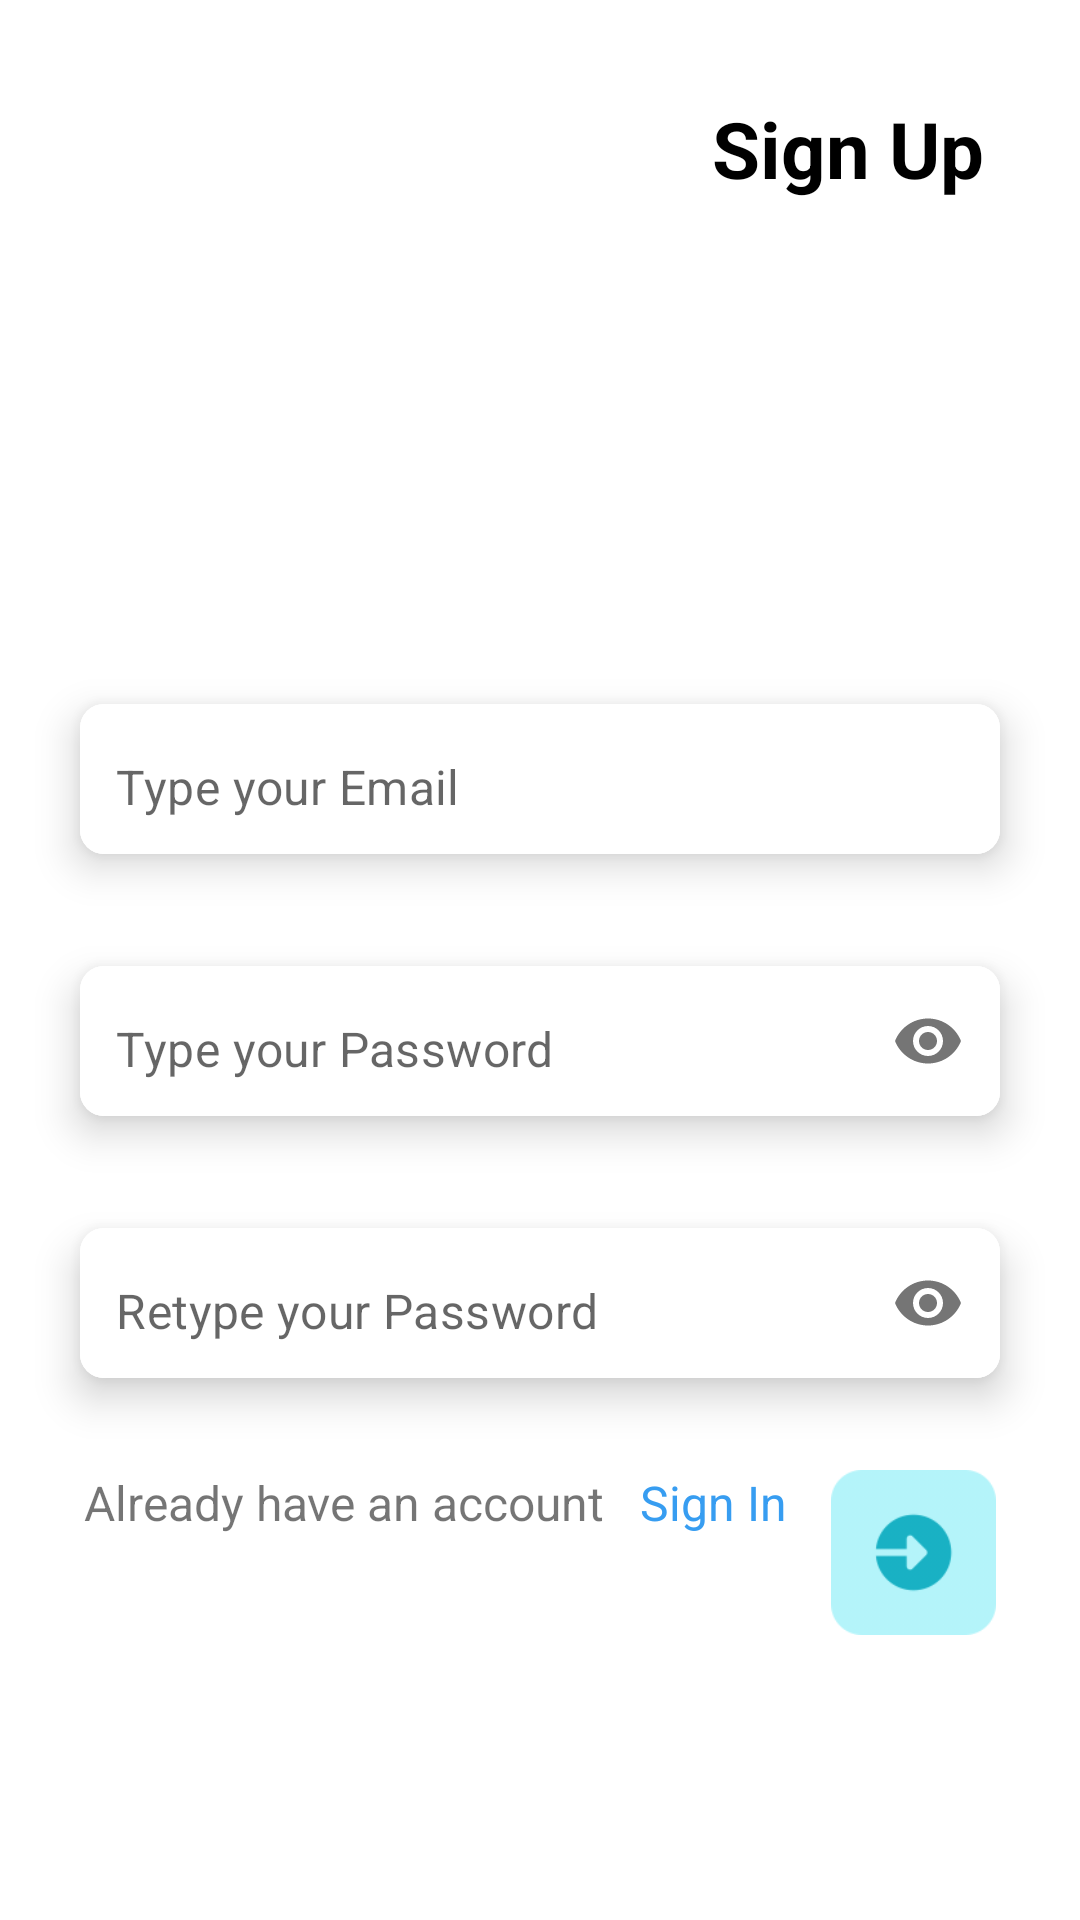

Screen size 1080×1920. Icon name, then its box in pixels as [x1=x1, y1=y1, x2=x2, y2=y2]:
ent: [x1=831, y1=1470, x2=996, y2=1635]
